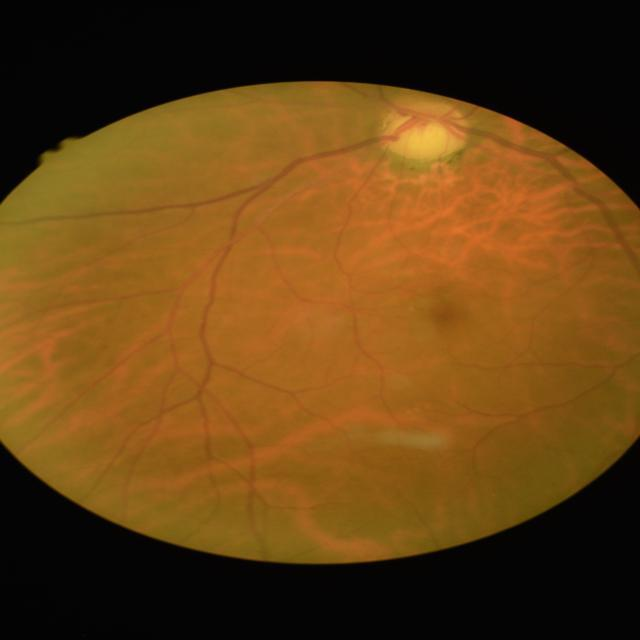cup: (394, 112, 460, 154)
disk: (380, 102, 470, 158)
